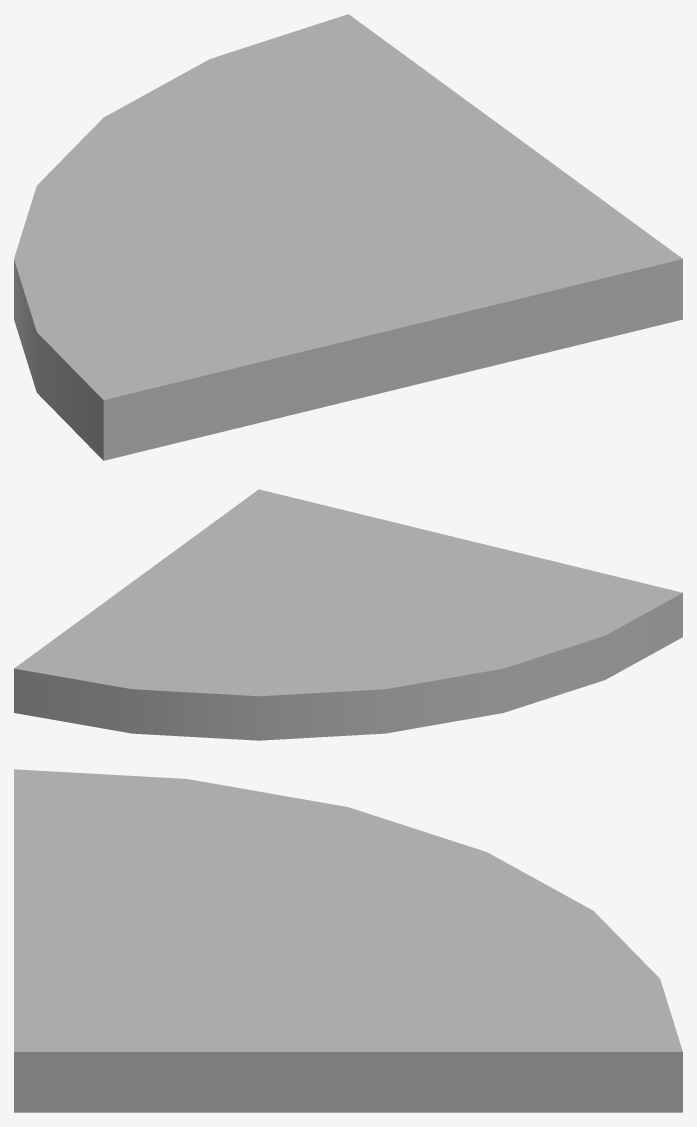
File: sector.fbx
3 views of the same model, one above another, from view 1: azimuth 30°, elevation 25°; view 2: azimuth 150°, elevation 25°; view 3: azimuth 270°, elevation 25° (orthographic). The views are drawn at different scales.
Parts seen in each view (by area): view 1: node_id57; view 2: node_id57; view 3: node_id57.
Part boxes in pixels (<box>): node_id57: <box>14,14,682,460</box>; node_id57: <box>14,489,682,740</box>; node_id57: <box>14,769,682,1112</box>.
Bounding box in the file's own units: 0.512 × 0.0512 × 0.512.
1 material, 1 textured.
